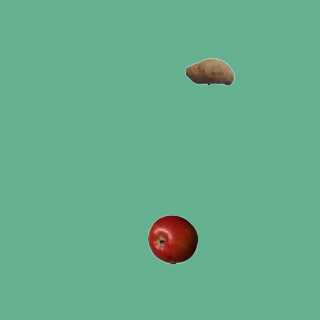Apple Braeburn: (147, 214, 197, 264)
Potato Sweet: (184, 46, 234, 96)
